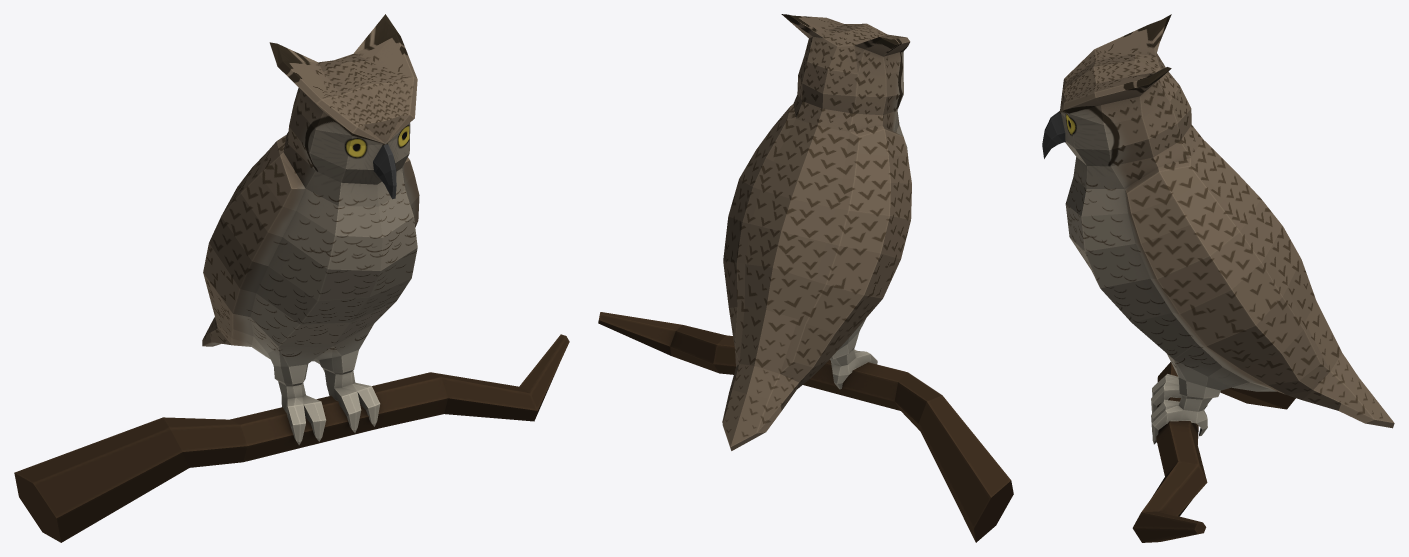
The model's file is GreatHornedOwl.obj.
3 renders of one model, left to right at view 1: azimuth 30°, elevation 25°; view 2: azimuth 150°, elevation 25°; view 3: azimuth 270°, elevation 25°, orthographic. The views are drawn at different scales.
Visible parts, largest first — view 1: GreatHornedOwl_mesh; view 2: GreatHornedOwl_mesh; view 3: GreatHornedOwl_mesh.
Part boxes in pixels (left/top/right/bottom): GreatHornedOwl_mesh: left=14, top=14, right=569, bottom=542; GreatHornedOwl_mesh: left=598, top=14, right=1013, bottom=542; GreatHornedOwl_mesh: left=1042, top=14, right=1394, bottom=542.
Bounding box in the file's own units: 9.98 × 9.32 × 6.28.
1 material, 1 textured.
